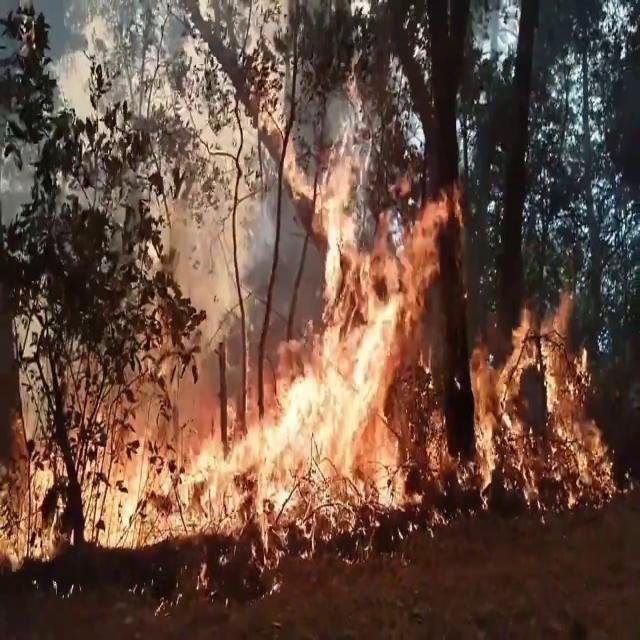Fire: (0, 120, 452, 570), (464, 289, 626, 511)
